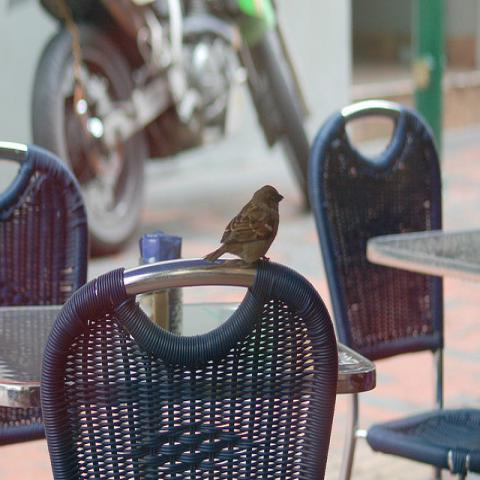motorcycle: (31, 0, 312, 255)
